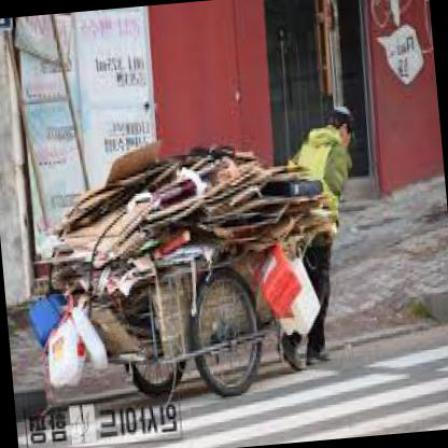silver: (260, 106, 374, 373)
